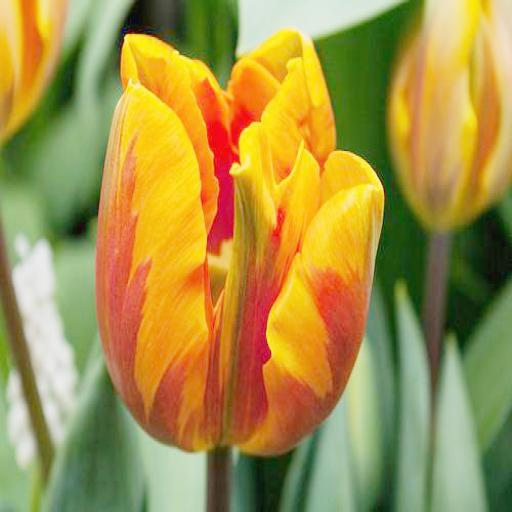tulip: (92, 25, 385, 453)
